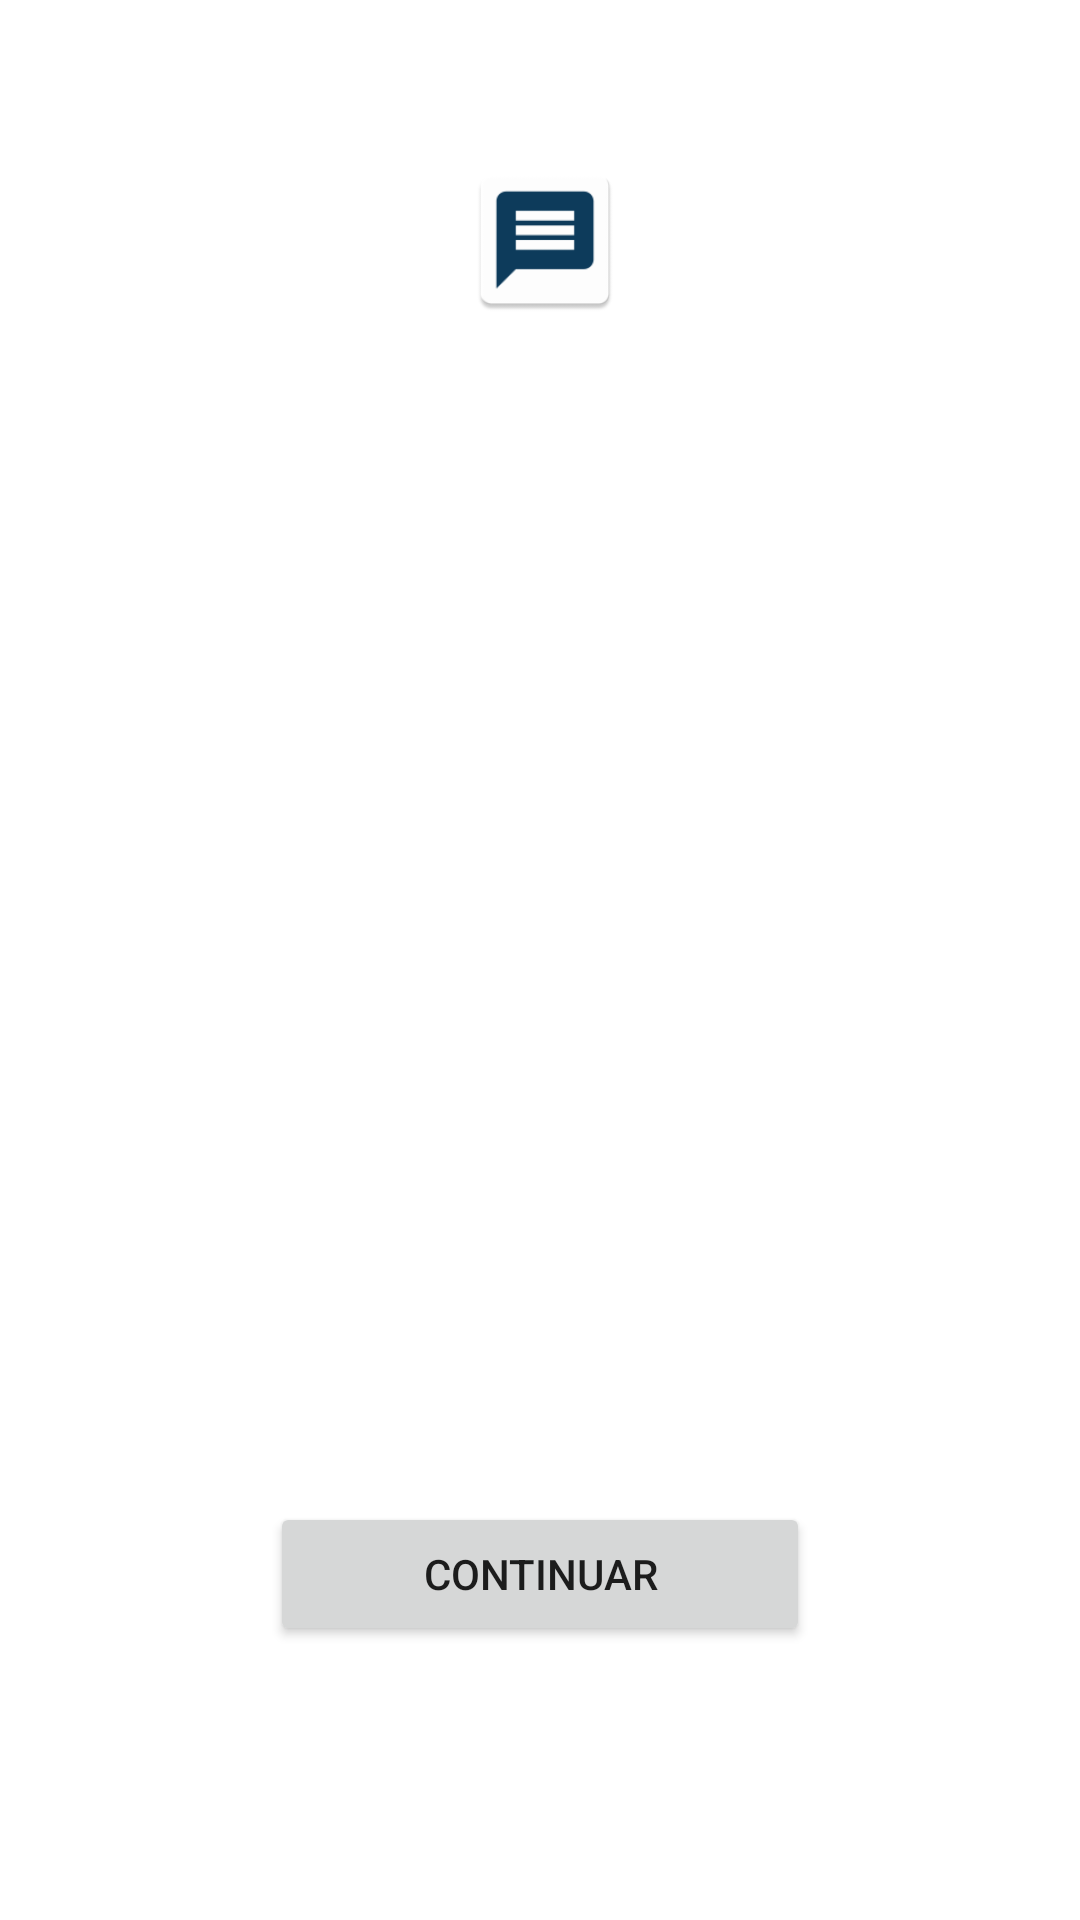

Icons on this 1080 x 1920 Android screen, each with its box as (x1, y1, x2, y2):
contenido: (481, 182, 610, 308)
